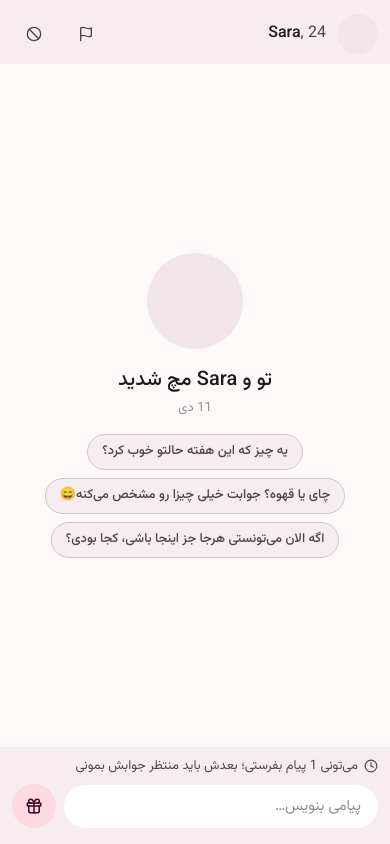
Test: Chat — reply limit › a suggested opener counts as the one message
Expected: the text box with placeholder "پیامی بنویس…" is shown, top-left (64, 785), bottom-right (378, 828)
Click the button "یه چیز که این هفته حالتو خوب کرد؟" at (195, 452), box top-left (87, 434), bottom-right (303, 470)
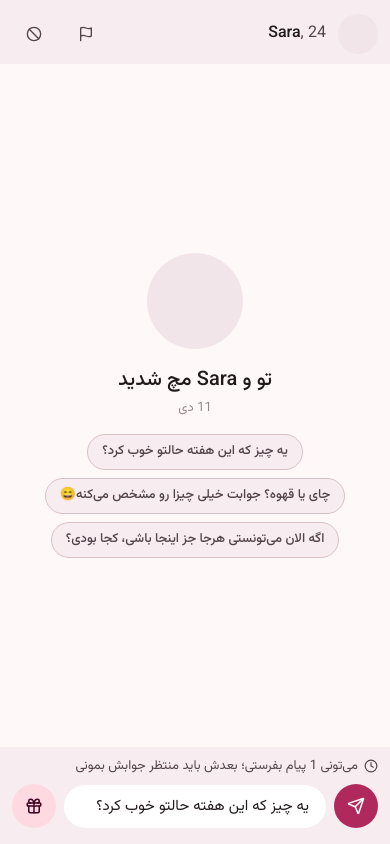
Click the button named "ارسال" at (356, 806), box top-left (334, 784), bottom-right (378, 828)
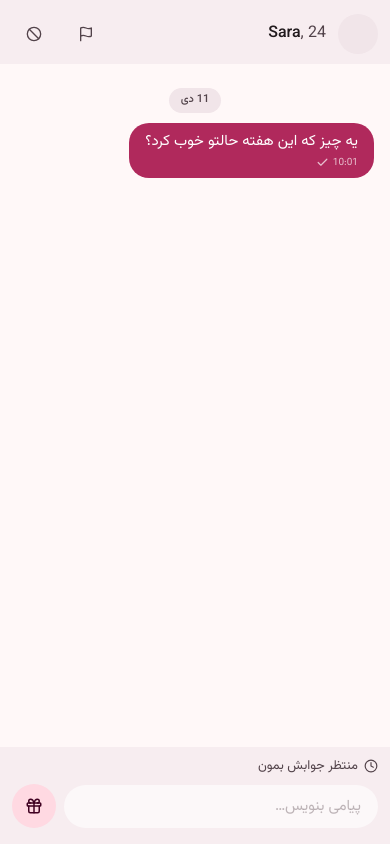
Expected: the text "منتظر جوابش بمون" is shown, top-left (258, 756), bottom-right (378, 776)
Expected: the text box with placeholder "پیامی بنویس…" is disabled, top-left (64, 785), bottom-right (378, 828)
